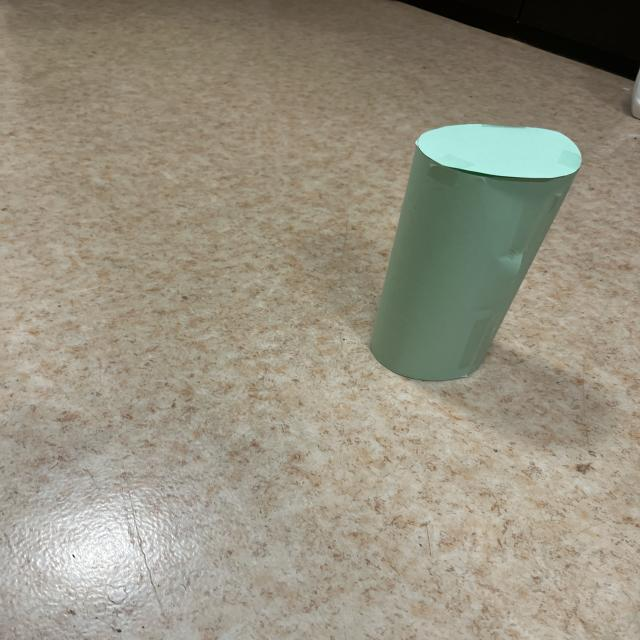meta: (371, 124, 581, 381)
